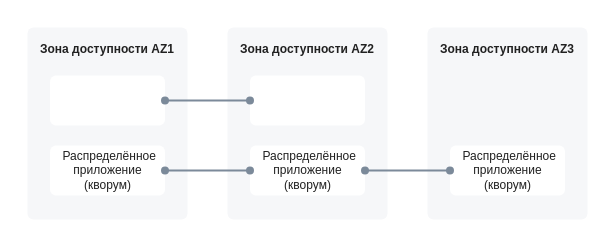
The diagram is 614 pixels wide and 248 high, and some of its shapes have lost their labels. The centre of each missing label's shape, as x and y in pixels:
Активный инстанс приложения: pixel 107 100
Резервный инстанс приложения: pixel 307 100
